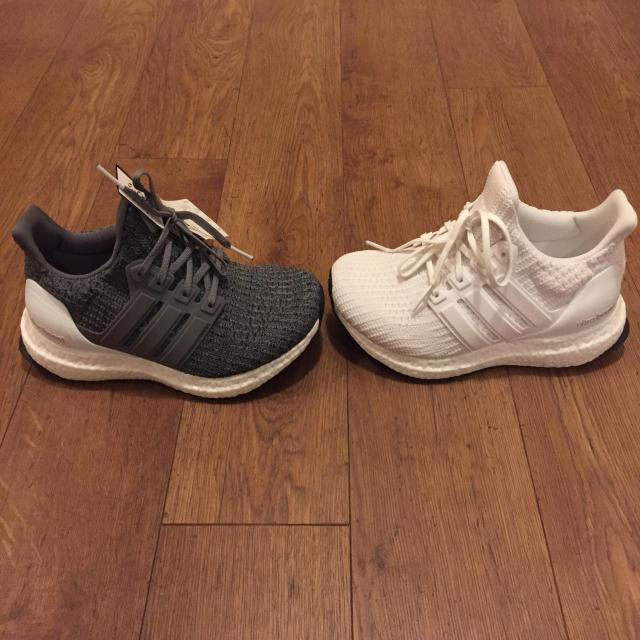shoe: (7, 157, 332, 410), (324, 152, 634, 394)
